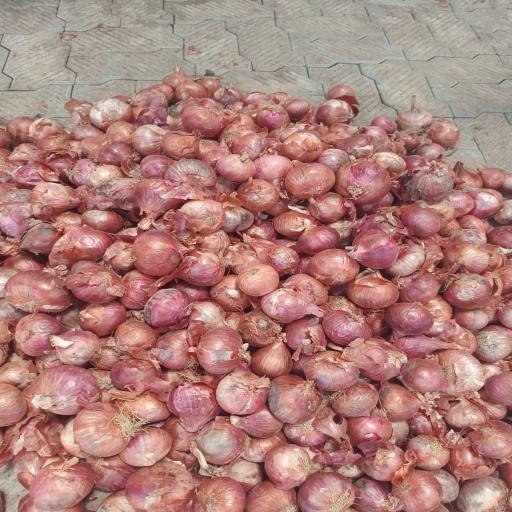damaged: (208, 423, 239, 463), (32, 230, 48, 254)
healthy: (84, 410, 129, 453), (136, 475, 188, 511), (139, 235, 180, 273), (346, 164, 386, 202), (310, 357, 353, 388), (314, 476, 349, 512), (313, 254, 354, 284), (291, 167, 331, 196), (274, 450, 304, 485), (184, 110, 224, 135), (243, 268, 277, 294), (188, 112, 223, 137), (290, 138, 322, 160), (409, 211, 439, 233), (262, 350, 288, 373), (222, 162, 250, 182), (302, 232, 332, 248)
rotten: (418, 171, 447, 201), (248, 316, 275, 344)
